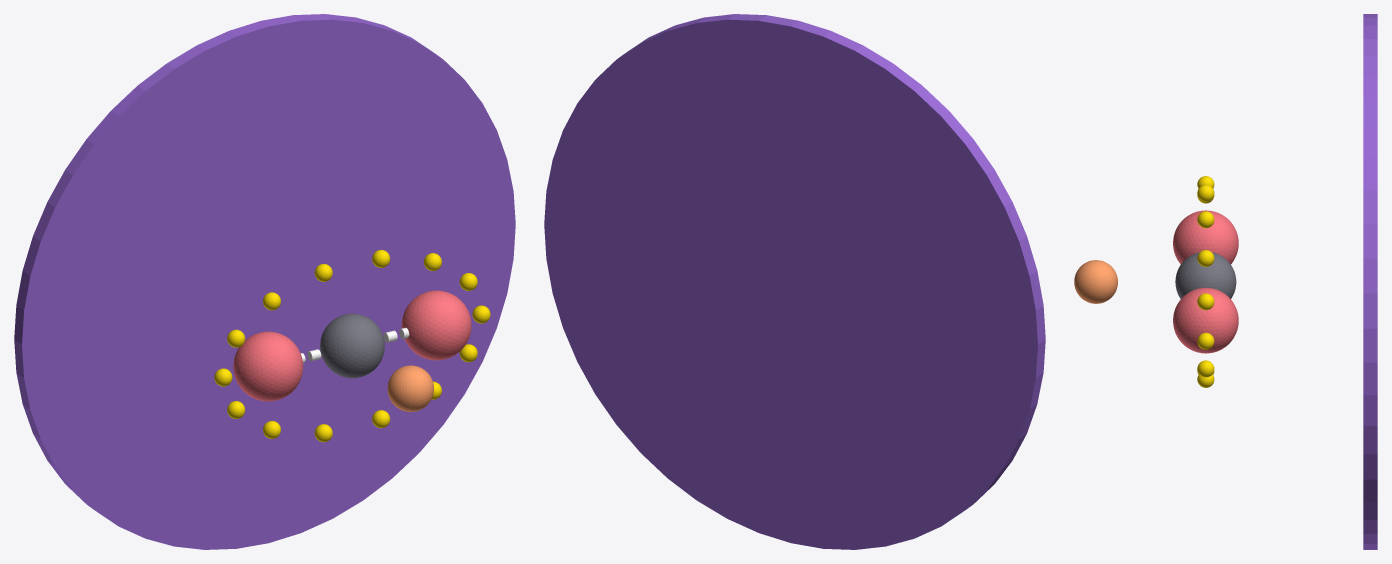
The model's file is estado_de_transicao_CORRIGIDO_Q_LAB.glb.
3 renders of one model, left to right at view 1: azimuth 30°, elevation 25°; view 2: azimuth 150°, elevation 25°; view 3: azimuth 270°, elevation 25°, orthographic. The views are drawn at different scales.
Visible parts, largest first — view 1: base, O1, O2, C, maximo_energia; view 2: base; view 3: base, O2, O1, C, maximo_energia.
Part boxes in pixels (x1,y1,x2,y2): base: (14,14,515,549); O1: (233,331,303,401); O2: (401,290,471,360); C: (320,313,384,378); maximo_energia: (387,365,433,411); base: (544,14,1045,549); base: (1363,14,1377,549); O2: (1173,287,1238,353); O1: (1173,210,1238,264); C: (1175,252,1236,298); maximo_energia: (1074,260,1117,303).
Size of the model in its own units: 0.44 by 0.44 by 0.249.
